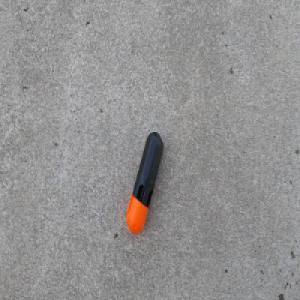PlasticPart: (125, 130, 163, 237)
